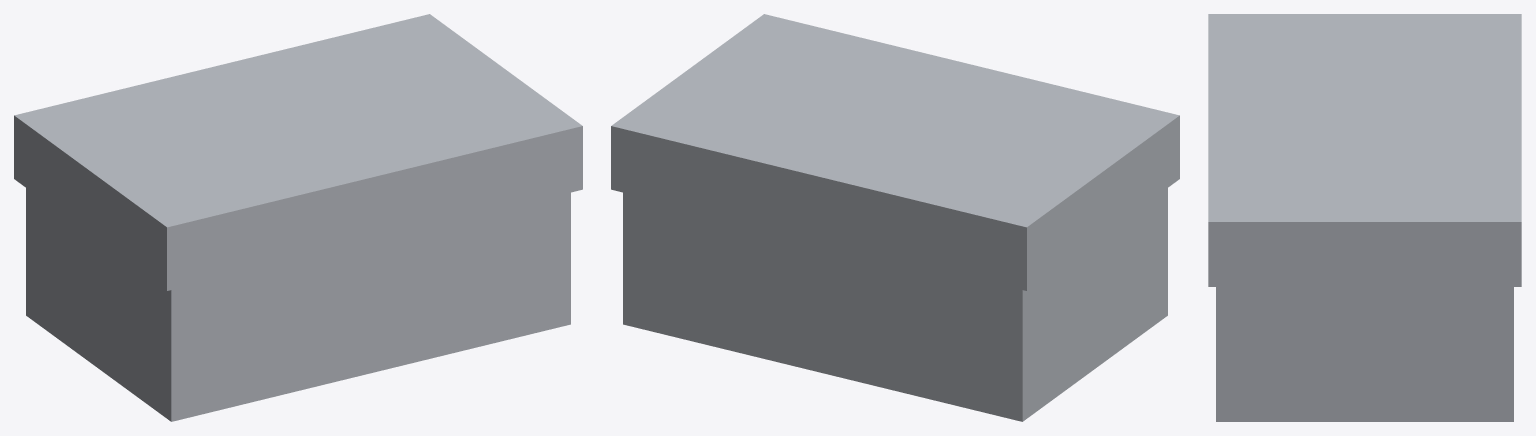
The model's file is SM_Prop_ShoeBox_01.glb.
3 renders of one model, left to right at view 1: azimuth 30°, elevation 25°; view 2: azimuth 150°, elevation 25°; view 3: azimuth 270°, elevation 25°, orthographic. The views are drawn at different scales.
Parts seen in each view (by area): view 1: SM_Prop_ShoeBox_01; view 2: SM_Prop_ShoeBox_01; view 3: SM_Prop_ShoeBox_01.
Boxes of the visible parts, x1=… form: SM_Prop_ShoeBox_01: x1=14, y1=14, x2=582, y2=421; SM_Prop_ShoeBox_01: x1=611, y1=14, x2=1179, y2=421; SM_Prop_ShoeBox_01: x1=1208, y1=14, x2=1521, y2=421.
Bounding box in the file's own units: 0.2893 × 0.1325 × 0.1845.
1 material, 1 textured.
